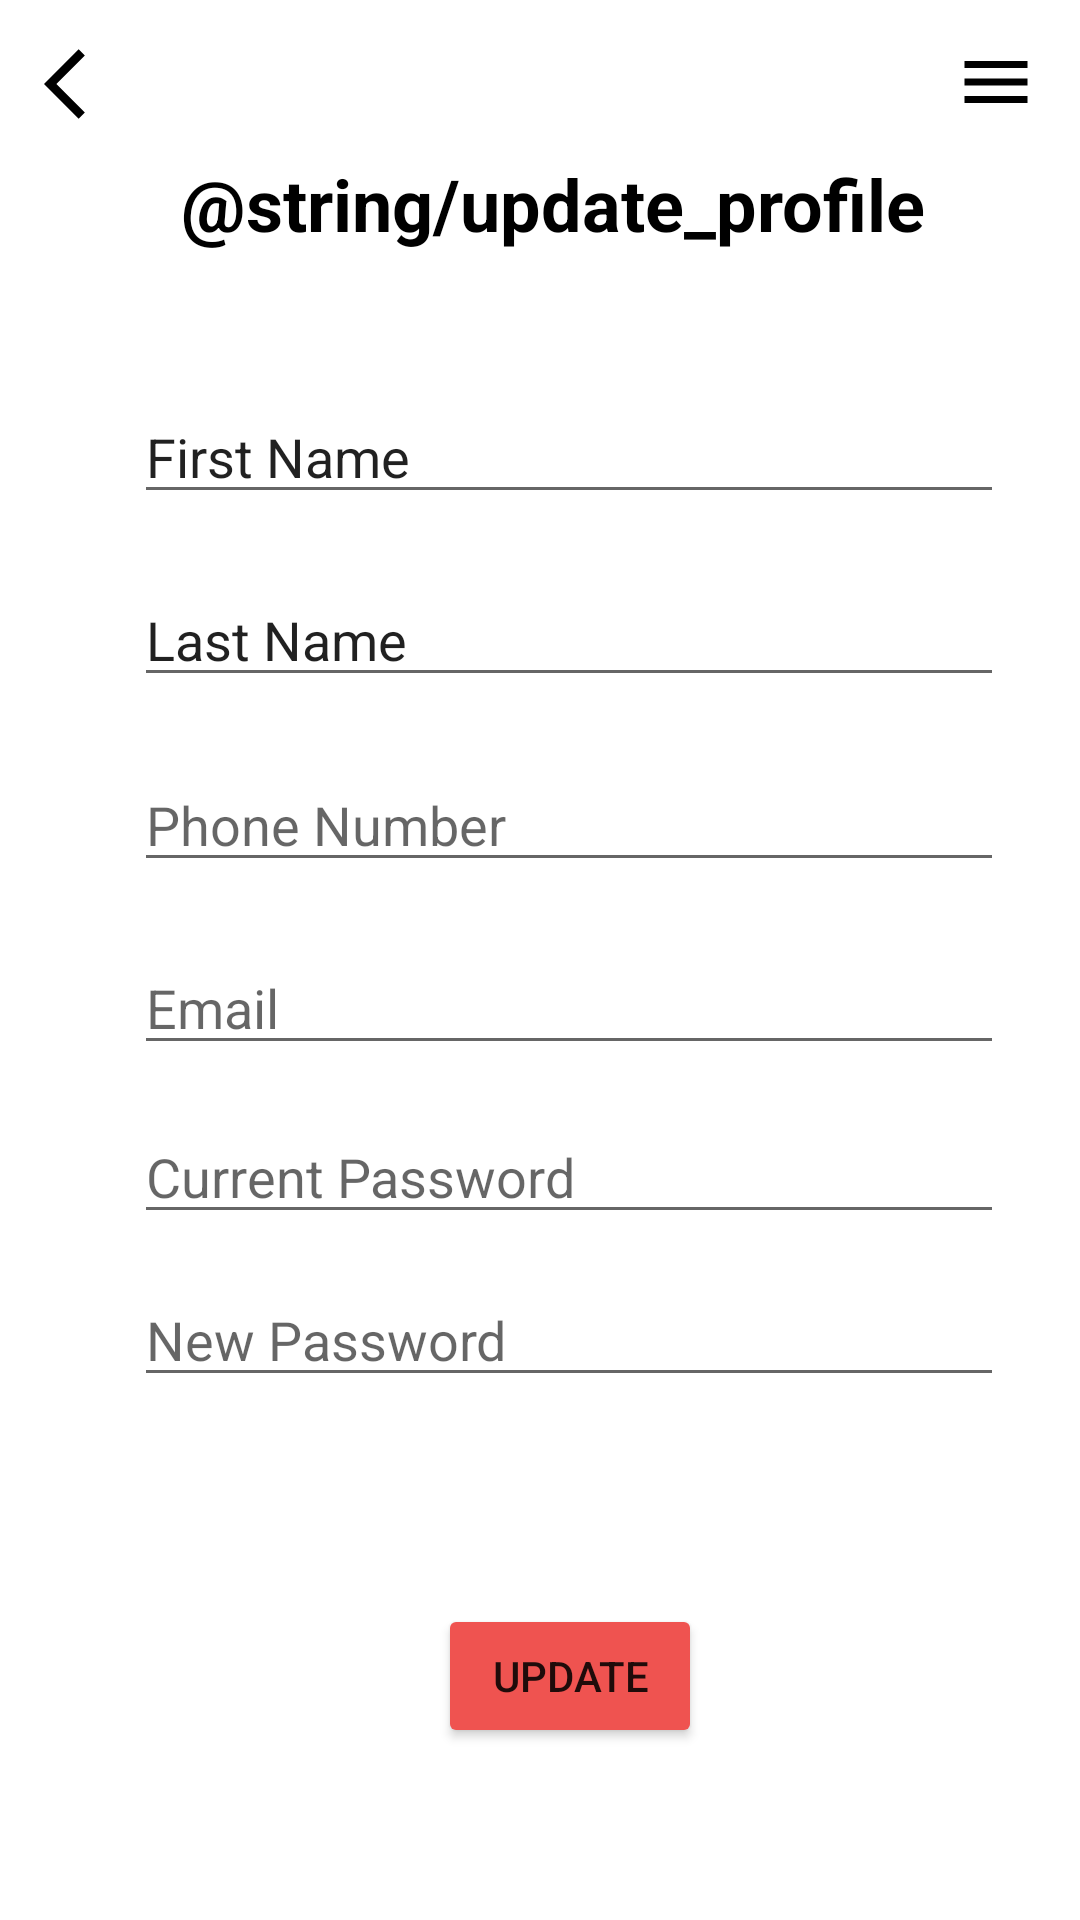

Icons on this 1080px×1920px Android screen, each with its box as [x1,y1,x2,y2]:
arrowback: [44,49,85,119]
menu: [964,61,1028,103]
